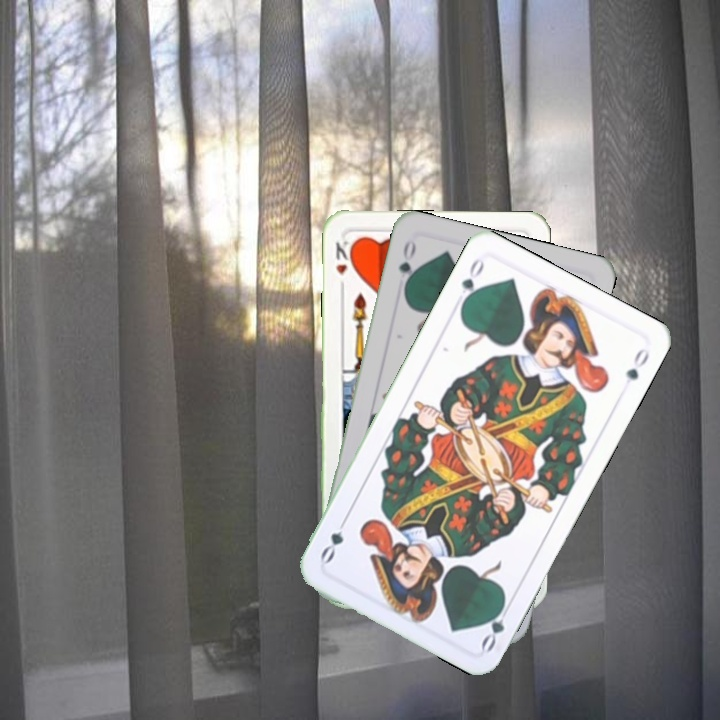GO: (476, 596, 514, 654), (457, 254, 487, 310), (394, 236, 419, 294)
HK: (332, 236, 356, 294)
